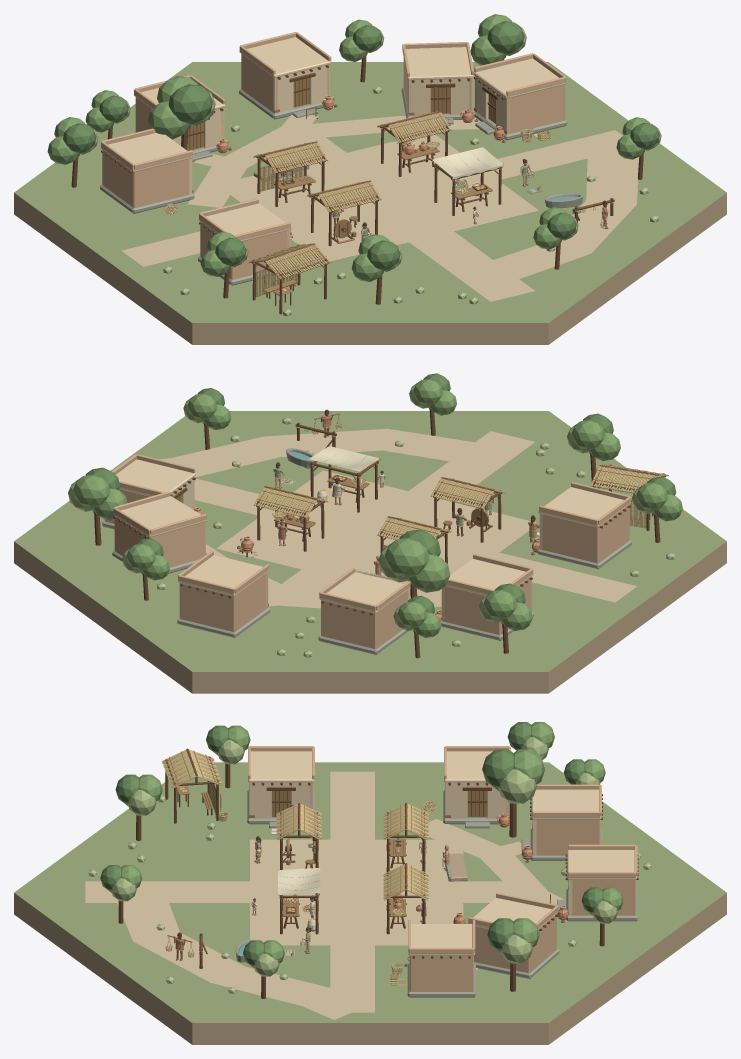
The model's file is market.glb.
The picture shows the model from 3 angles, top to bottom: view 1: azimuth 30°, elevation 25°; view 2: azimuth 150°, elevation 25°; view 3: azimuth 270°, elevation 25°; orthographic projection.
Parts seen in each view (by area): view 1: Market Village assembled prototype batched; view 2: Market Village assembled prototype batched; view 3: Market Village assembled prototype batched.
Part boxes in pixels (x1,y1,x2,y2): Market Village assembled prototype batched: (14, 14, 726, 344); Market Village assembled prototype batched: (14, 373, 726, 693); Market Village assembled prototype batched: (14, 722, 726, 1044).
Bounding box in the file's own units: 34.64 × 6.69 × 40.
